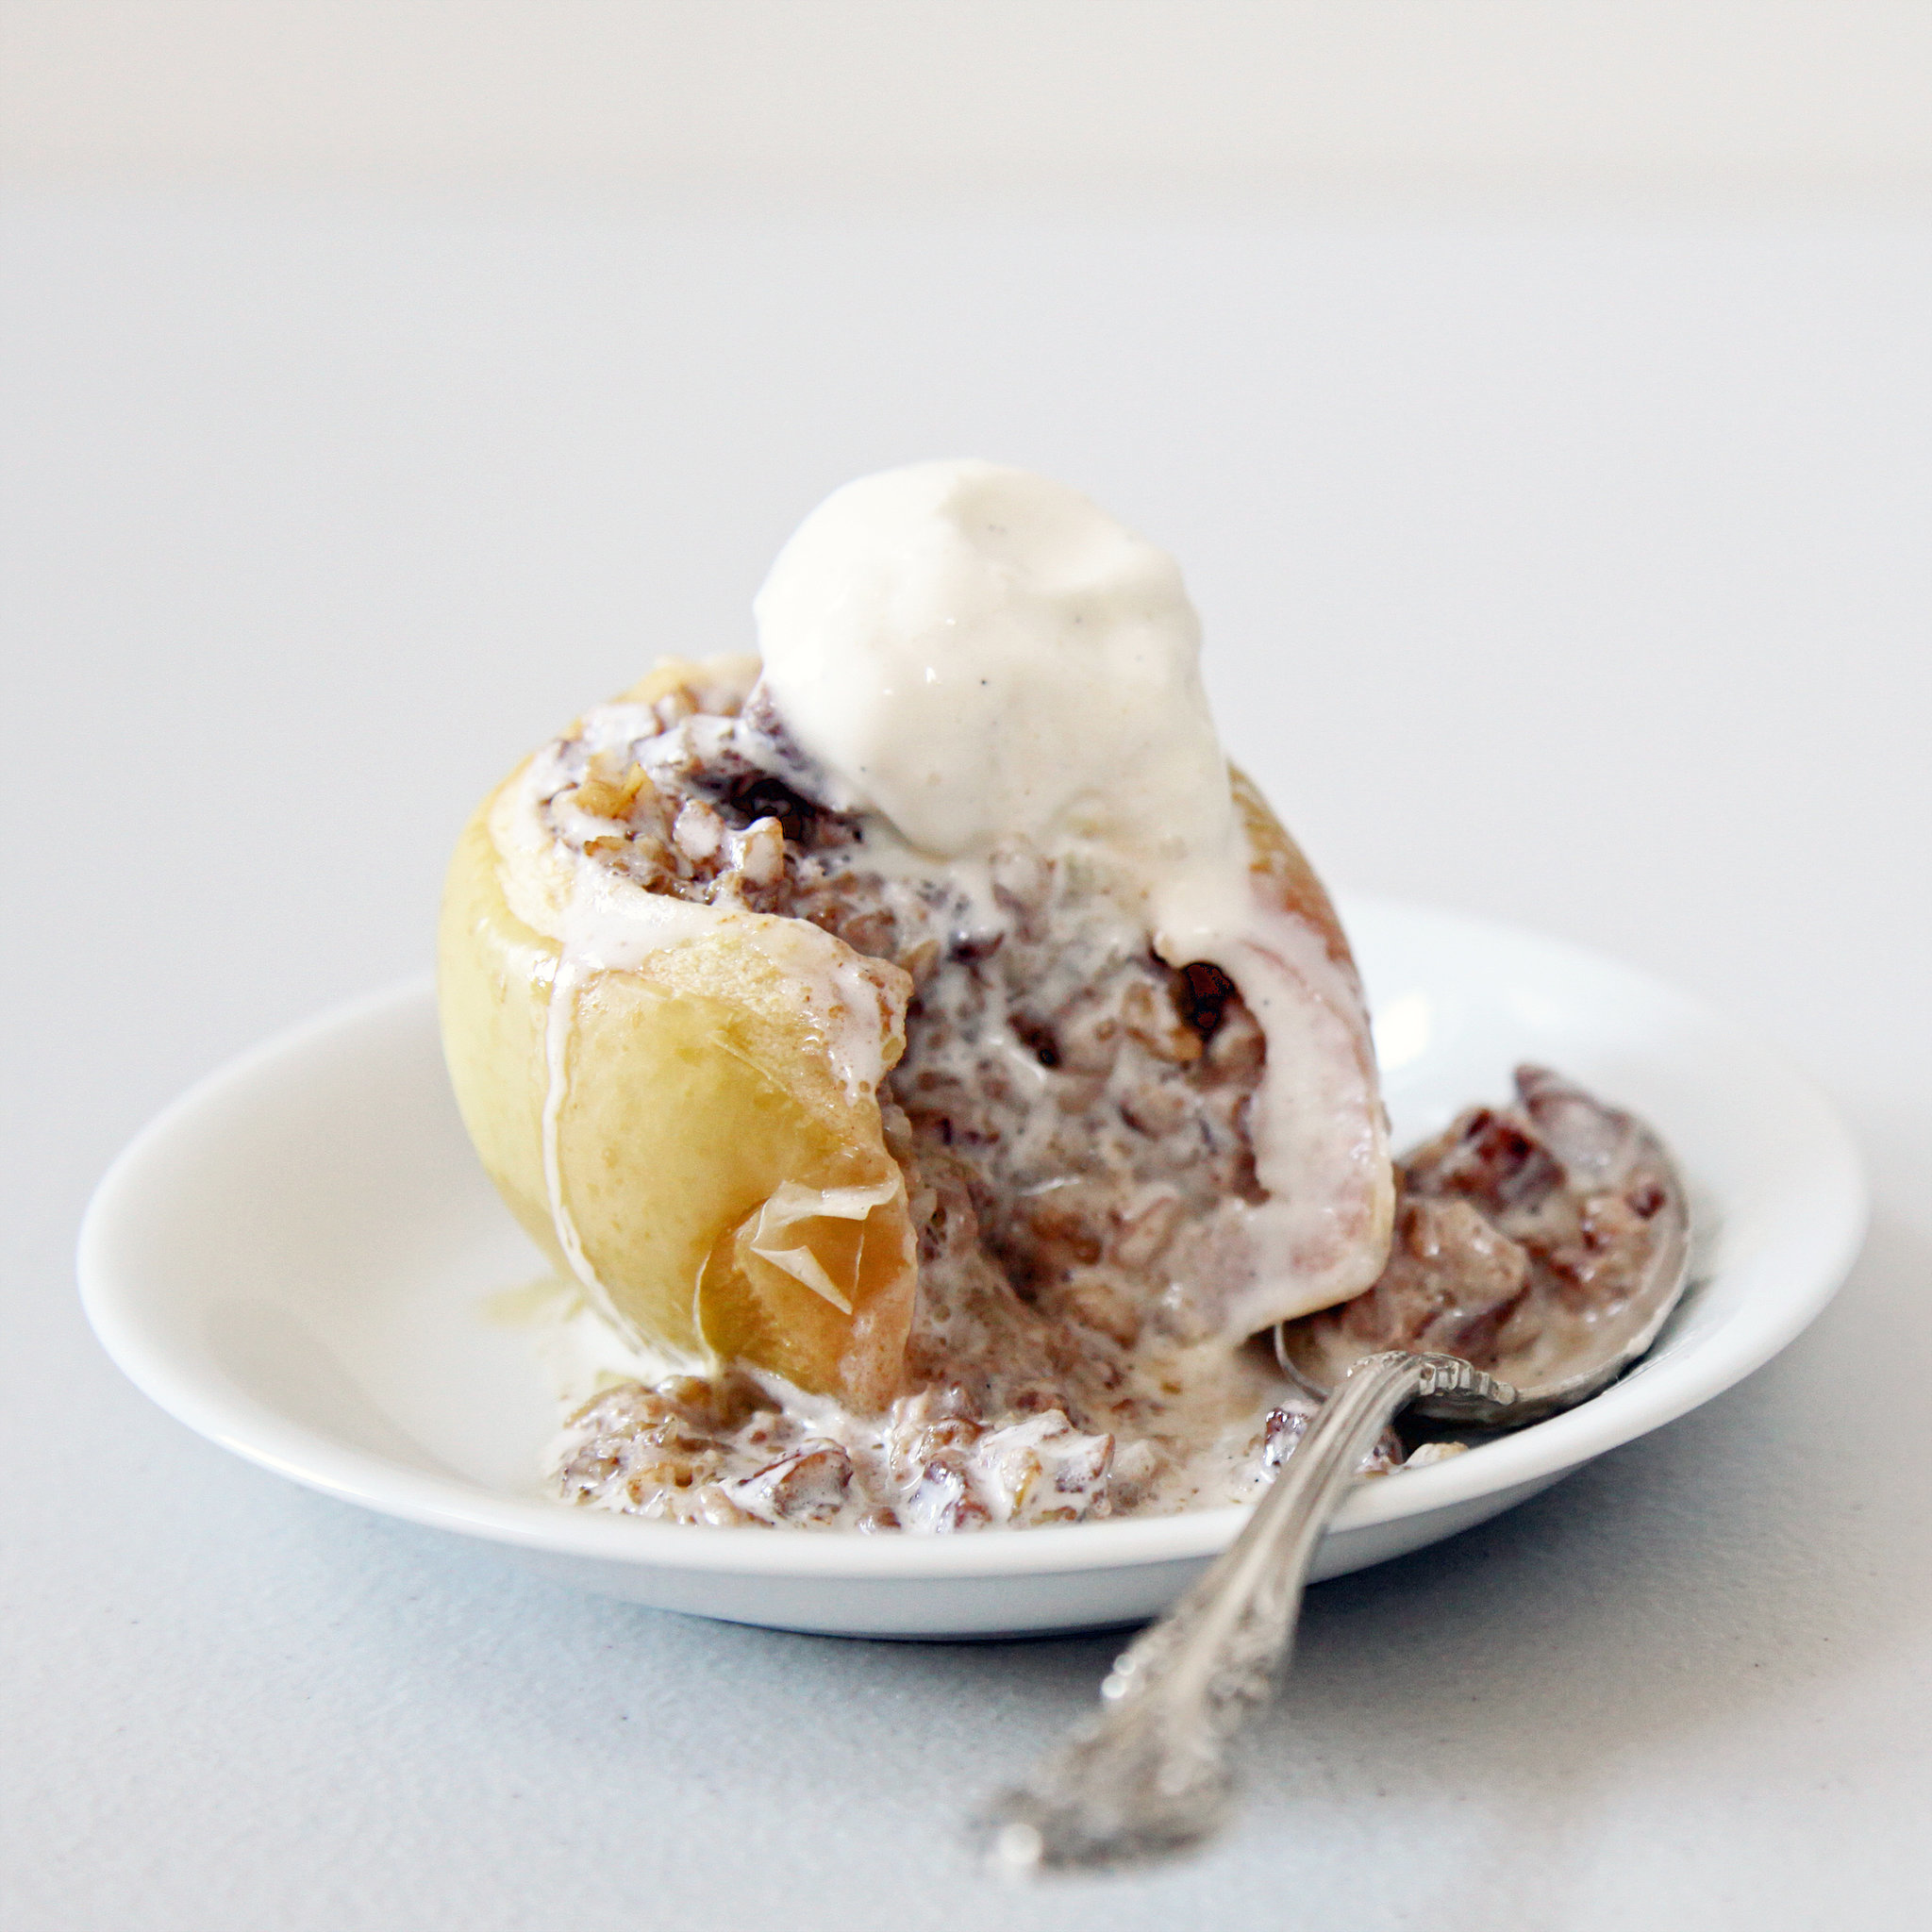boiled peas: (922, 948, 1210, 1449)
